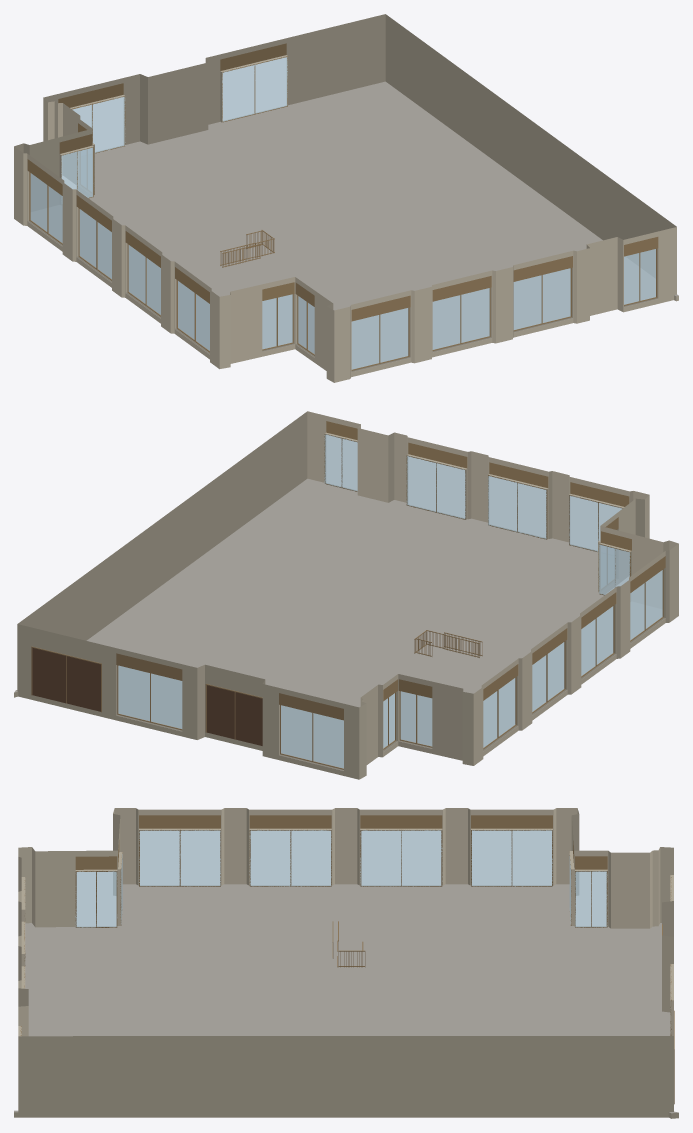
3 renders of one model, top to bottom at view 1: azimuth 30°, elevation 25°; view 2: azimuth 150°, elevation 25°; view 3: azimuth 270°, elevation 25°, orthographic. The views are drawn at different scales.
Size of the model in its own units: 31.85 by 5.29 by 39.06.
